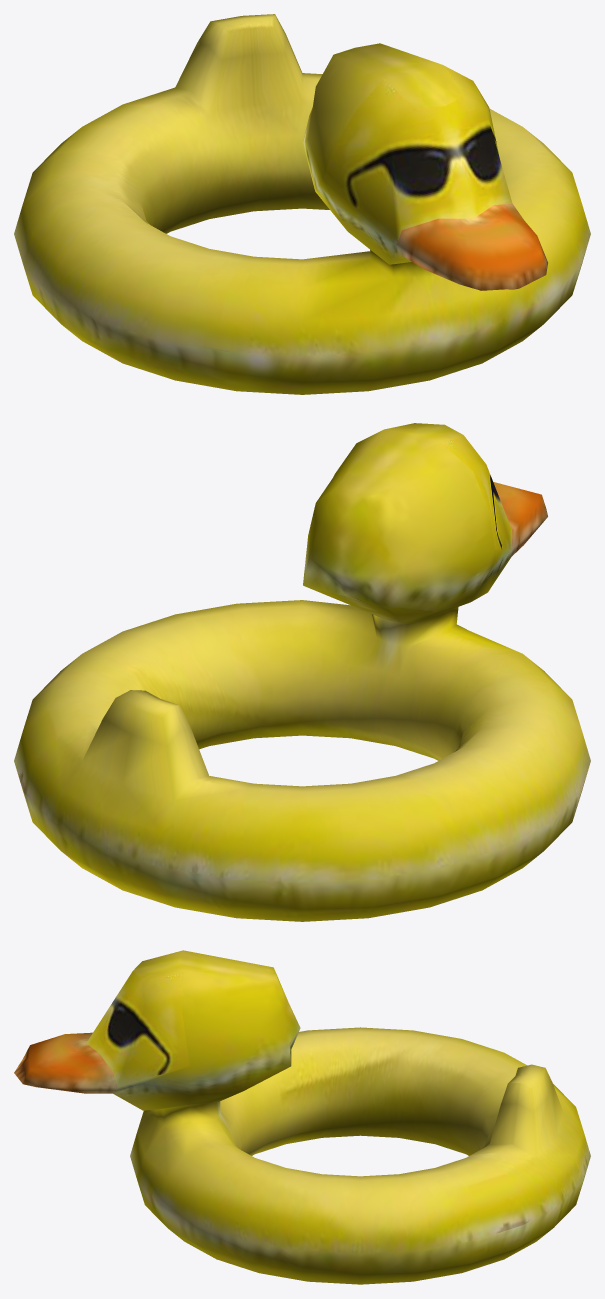
Rendered from boueecanard.glb.
The picture shows the model from 3 angles, top to bottom: view 1: azimuth 30°, elevation 25°; view 2: azimuth 150°, elevation 25°; view 3: azimuth 270°, elevation 25°; orthographic projection. The views are drawn at different scales.
Visible parts, largest first — view 1: Torus.001; view 2: Torus.001; view 3: Torus.001.
Boxes of the visible parts, x1,y1,x2,y2 form: Torus.001: [14, 14, 590, 394]; Torus.001: [14, 423, 590, 921]; Torus.001: [14, 950, 590, 1284].
Size of the model in its own units: 1.05 by 0.6116 by 1.31.
1 material, 1 textured.
